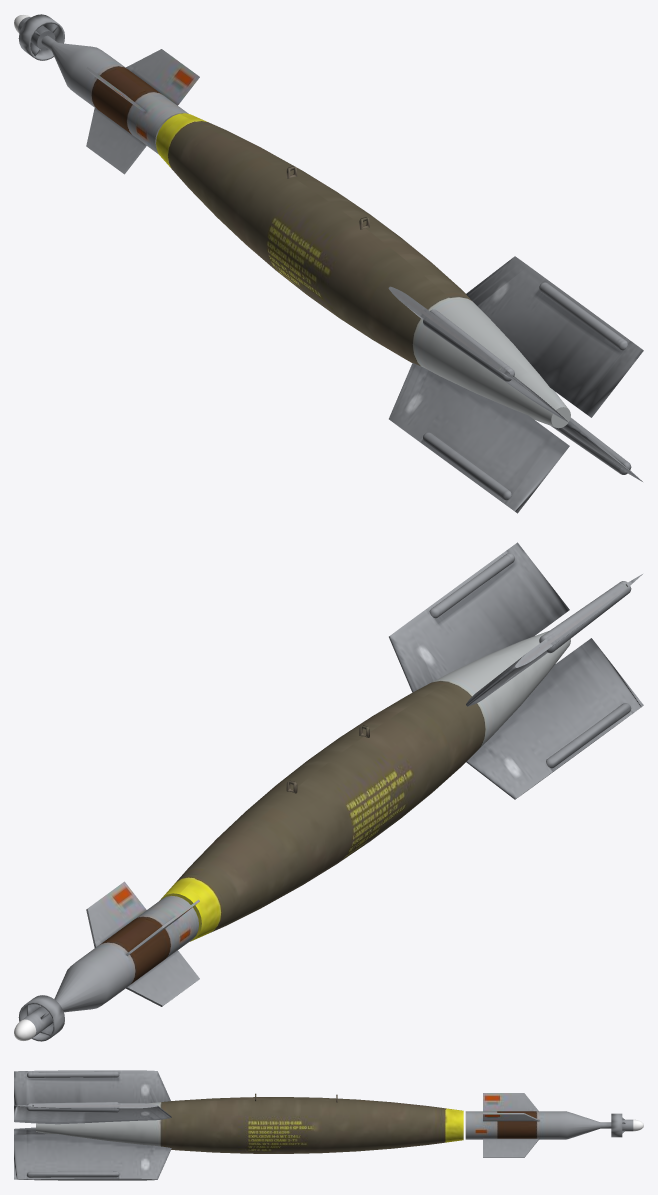
The picture shows the model from 3 angles, top to bottom: view 1: azimuth 30°, elevation 25°; view 2: azimuth 150°, elevation 25°; view 3: azimuth 270°, elevation 25°; orthographic projection. The views are drawn at different scales.
Parts seen in each view (by area): view 1: mk83lb_body; view 2: mk83lb_body; view 3: mk83lb_body.
Part boxes in pixels (bbox=[...]): mk83lb_body: bbox=[14, 14, 643, 513]; mk83lb_body: bbox=[14, 542, 643, 1041]; mk83lb_body: bbox=[14, 1070, 643, 1180].
Bounding box in the file's own units: 0.586 × 0.586 × 4.32.
3 materials, 3 textured.
